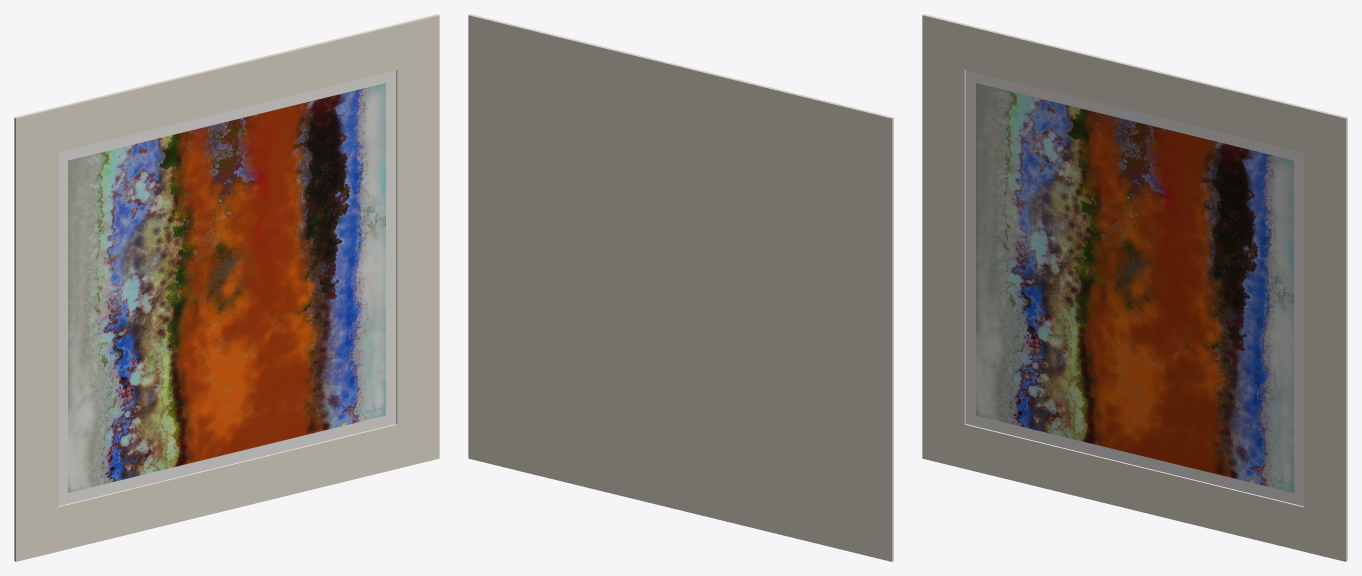
File: va078_moyen_passe-partout.glb
The picture shows the model from 3 angles, left to right: view 1: azimuth 30°, elevation 25°; view 2: azimuth 150°, elevation 25°; view 3: azimuth 330°, elevation 25°; orthographic projection.
Visible parts, largest first — view 1: va078_moyen_passe-partout; view 2: va078_moyen_passe-partout; view 3: va078_moyen_passe-partout.
Boxes of the visible parts, x1,y1,x2,y2 form: va078_moyen_passe-partout: [14, 14, 439, 561]; va078_moyen_passe-partout: [468, 14, 893, 561]; va078_moyen_passe-partout: [922, 14, 1347, 561].
Bounding box in the file's own units: 0.8 × 0.8 × 0.0055.
Materials: 4 (1 with a texture image).
